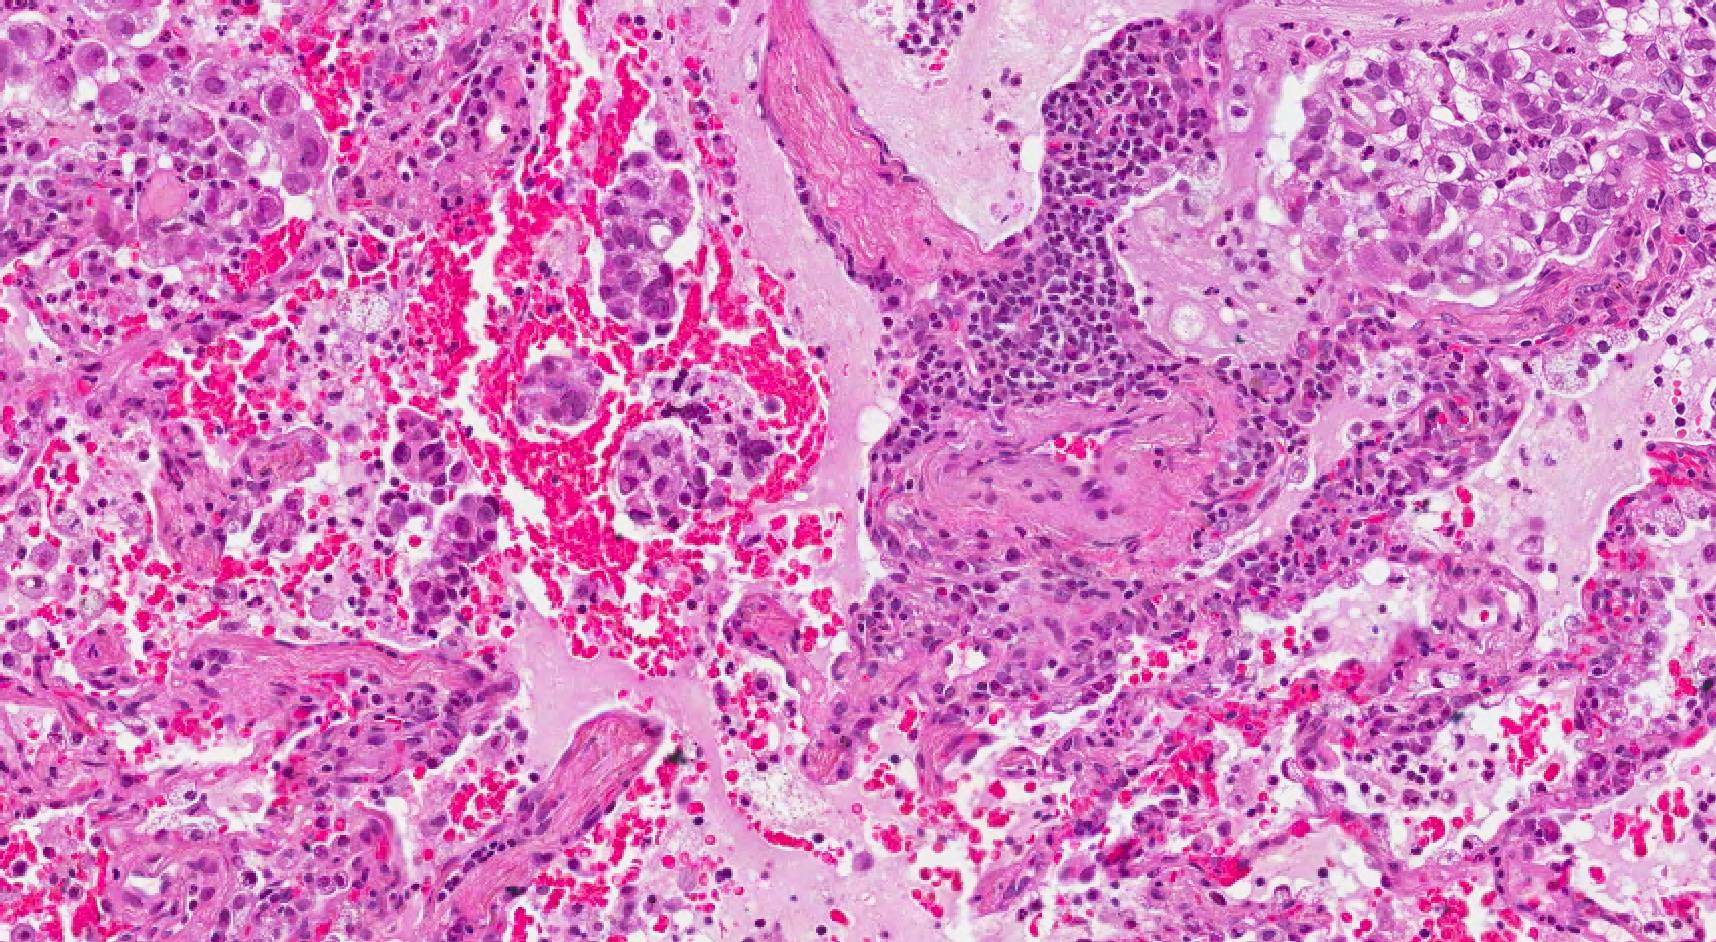stas: (1282, 43, 1634, 295), (1562, 1, 1716, 166), (596, 148, 696, 332), (240, 81, 327, 232), (412, 493, 498, 634), (616, 428, 709, 532), (520, 356, 608, 423), (387, 411, 457, 489), (247, 490, 309, 557), (369, 492, 434, 536)
